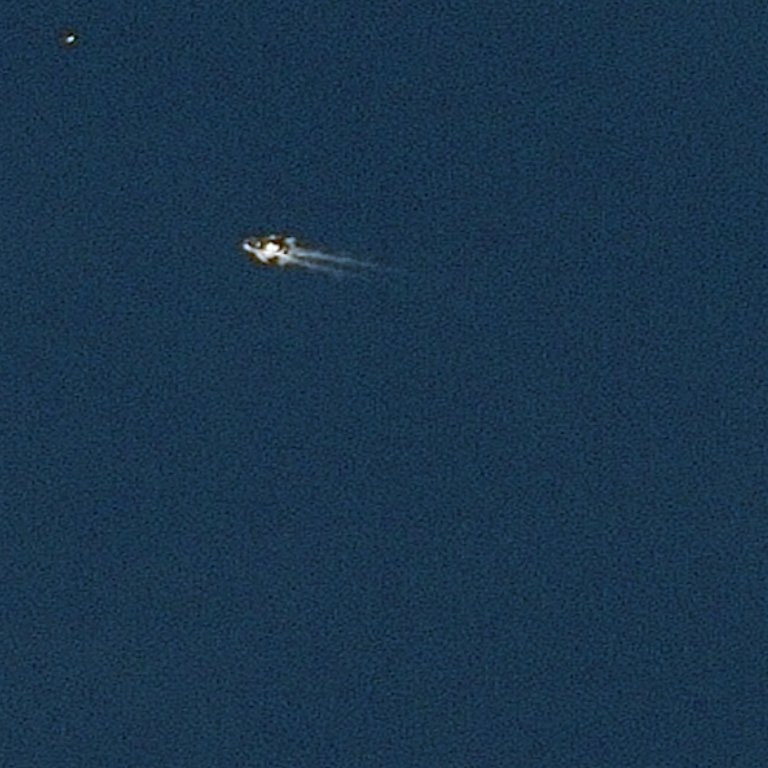ship: (240, 231, 289, 258)
